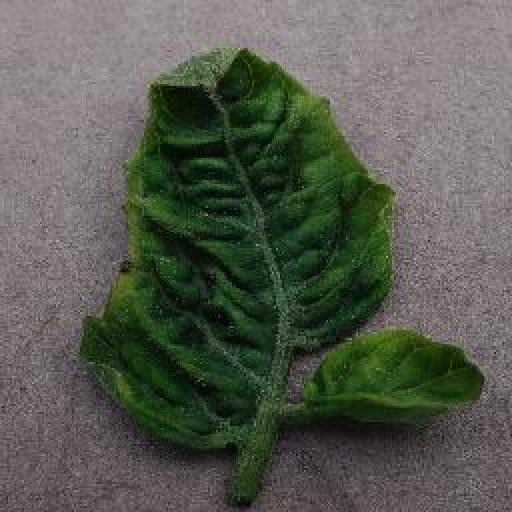disease_tomato: (82, 44, 396, 448), (316, 326, 487, 416)
